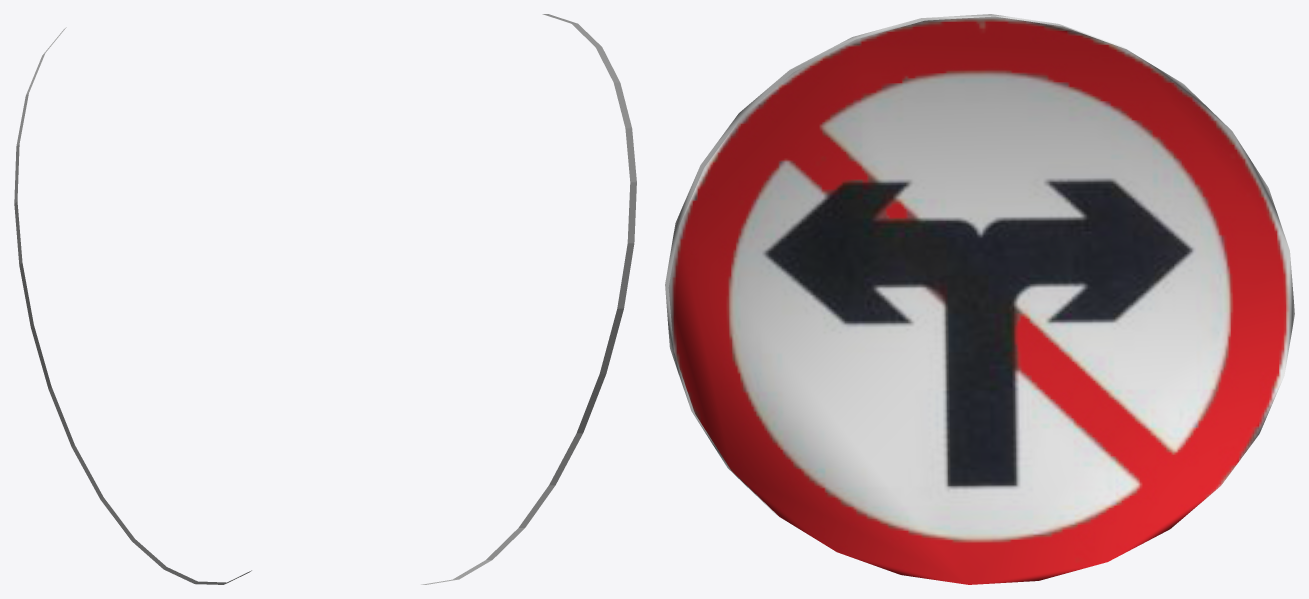
The picture shows the model from 3 angles, left to right: view 1: azimuth 30°, elevation 25°; view 2: azimuth 150°, elevation 25°; view 3: azimuth 270°, elevation 25°; orthographic projection. The views are drawn at different scales.
Parts seen in each view (by area): view 1: model02; view 2: model02; view 3: model02.
Part boxes in pixels (left/top/right/bottom): model02: left=14, top=27, right=251, bottom=584; model02: left=421, top=14, right=636, bottom=584; model02: left=665, top=14, right=1294, bottom=584.
Size of the model in its own units: 0.0279 by 1.19 by 1.19.
3 materials, 2 textured.
